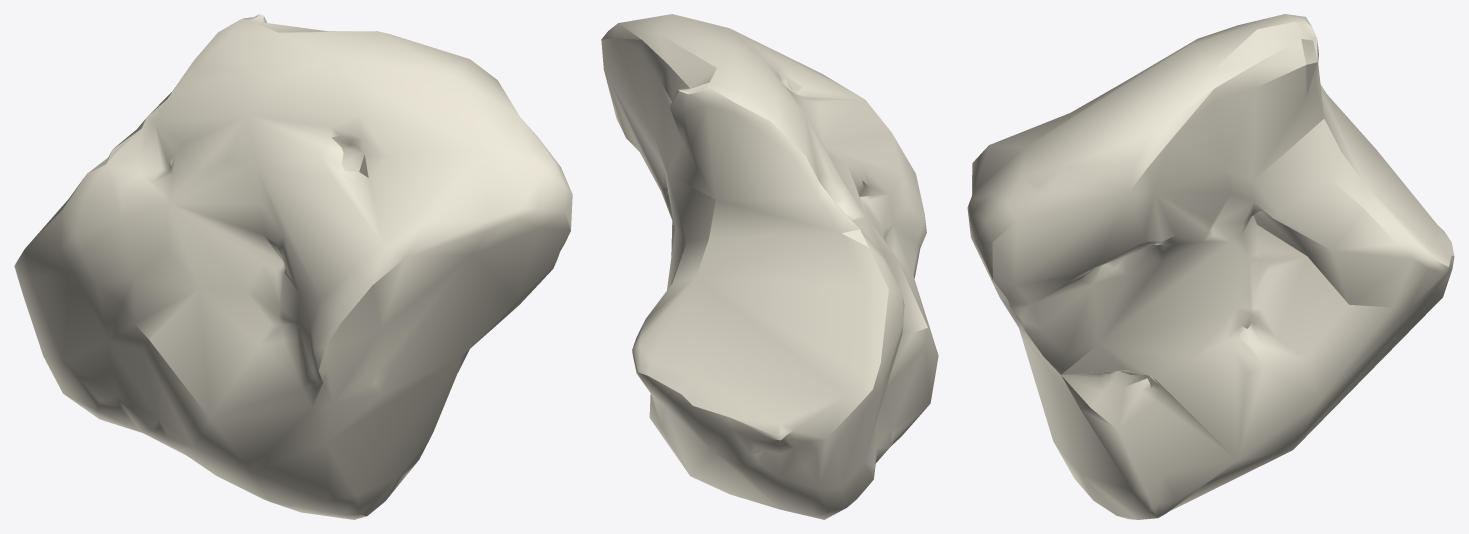
The model's file is fma24522_fj6382.glb.
The picture shows the model from 3 angles, left to right: view 1: azimuth 30°, elevation 25°; view 2: azimuth 150°, elevation 25°; view 3: azimuth 270°, elevation 25°; orthographic projection. The views are drawn at different scales.
Visible parts, largest first — view 1: FMA24522_FJ6382; view 2: FMA24522_FJ6382; view 3: FMA24522_FJ6382.
Boxes of the visible parts, <box> form: FMA24522_FJ6382: <box>14,14,572,519</box>; FMA24522_FJ6382: <box>601,14,938,519</box>; FMA24522_FJ6382: <box>967,14,1454,519</box>.
Size of the model in its own units: 0.028 by 0.0306 by 0.0287.
